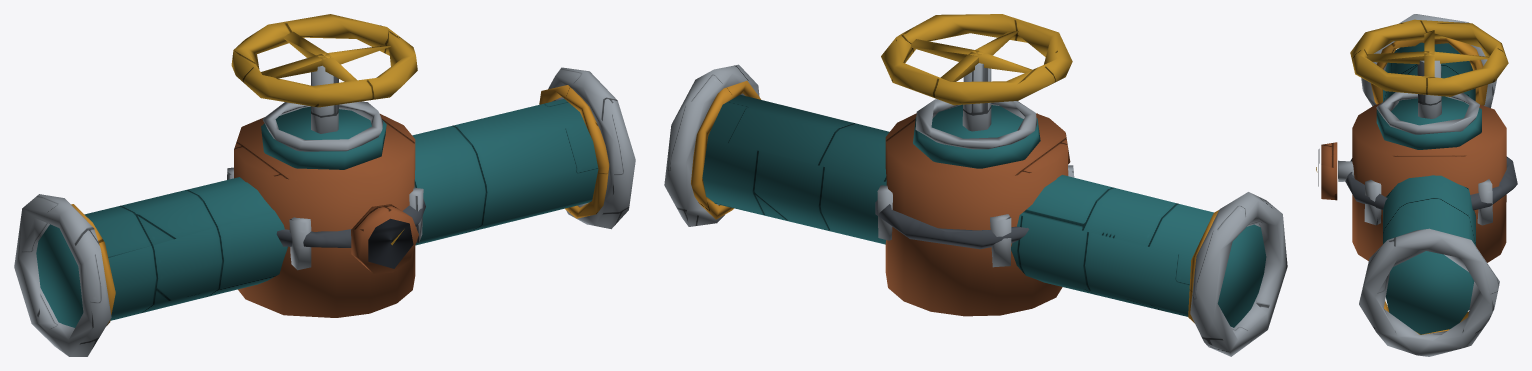
File: pressure_pipe_valve_lod2.glb
The picture shows the model from 3 angles, left to right: view 1: azimuth 30°, elevation 25°; view 2: azimuth 150°, elevation 25°; view 3: azimuth 270°, elevation 25°; orthographic projection. The views are drawn at different scales.
Visible parts, largest first — view 1: LOD2_Armor, LOD2_Hull, LOD2_BrushedMetal, LOD2_Warning, LOD2_Livery, LOD2_MechanicalDark, LOD2_Mechanical; view 2: LOD2_Armor, LOD2_Hull, LOD2_BrushedMetal, LOD2_Warning, LOD2_Livery, LOD2_Mechanical; view 3: LOD2_Armor, LOD2_BrushedMetal, LOD2_Hull, LOD2_Warning, LOD2_Livery, LOD2_Mechanical.
Boxes of the visible parts, x1,y1,x2,y2 form: LOD2_Armor: (36, 99, 598, 327); LOD2_Hull: (234, 114, 418, 317); LOD2_BrushedMetal: (14, 65, 635, 356); LOD2_Warning: (231, 14, 417, 245); LOD2_Livery: (71, 85, 609, 325); LOD2_MechanicalDark: (368, 218, 413, 268); LOD2_Mechanical: (276, 199, 425, 247); LOD2_Armor: (702, 94, 1266, 327); LOD2_Hull: (885, 113, 1070, 316); LOD2_BrushedMetal: (664, 63, 1287, 356); LOD2_Warning: (881, 14, 1072, 105); LOD2_Livery: (691, 81, 1218, 323); LOD2_Mechanical: (875, 200, 1029, 249); LOD2_Armor: (1376, 42, 1481, 334); LOD2_BrushedMetal: (1338, 14, 1499, 356); LOD2_Hull: (1321, 103, 1506, 262); LOD2_Warning: (1316, 19, 1508, 172); LOD2_Livery: (1371, 38, 1487, 334); LOD2_Mechanical: (1345, 156, 1517, 210).
Size of the model in its own units: 4.17 by 1.73 by 1.58.
7 materials, 7 textured.
